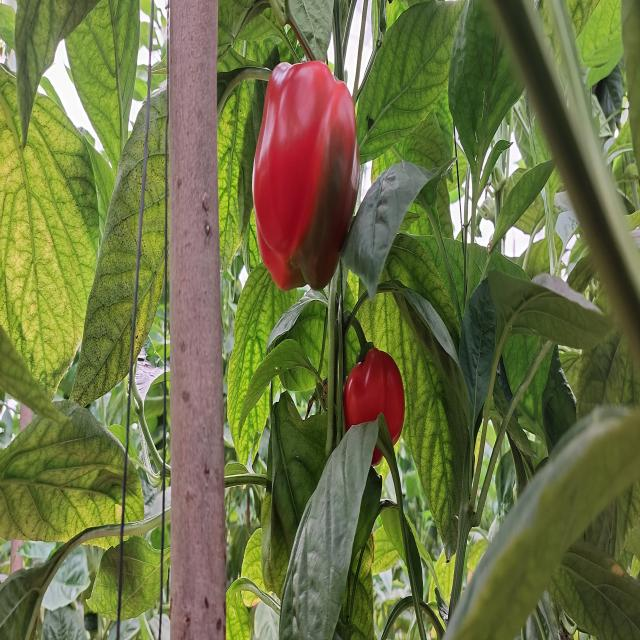Red-Ready-to-Harvest: (251, 48, 363, 296), (348, 329, 408, 450)
